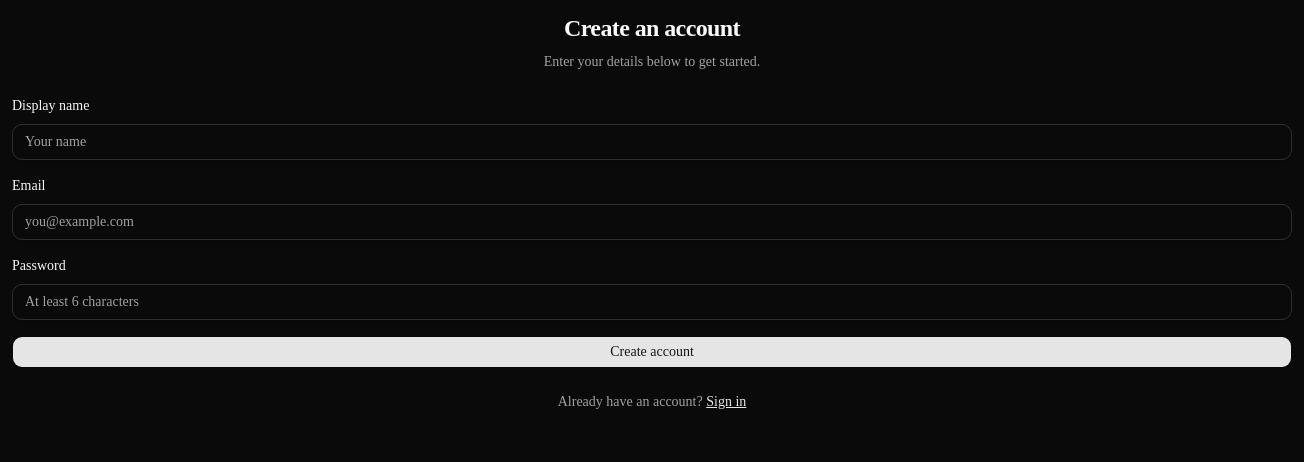
Authentication Flow › Signup Page › shows error message on signup failure
Type "Existing" into the field labelled "Display name".
click(652, 142); type("Existing")  # box left=12, top=124, right=1292, bottom=160
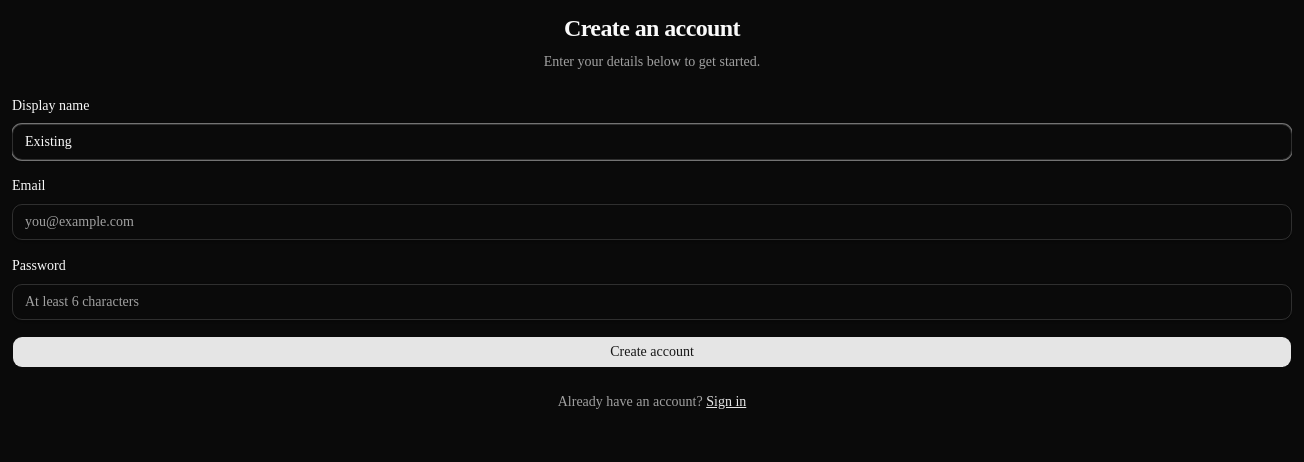
Type "existing@example.com" into the field labelled "Email".
click(652, 222); type("existing@example.com")  # box left=12, top=204, right=1292, bottom=240
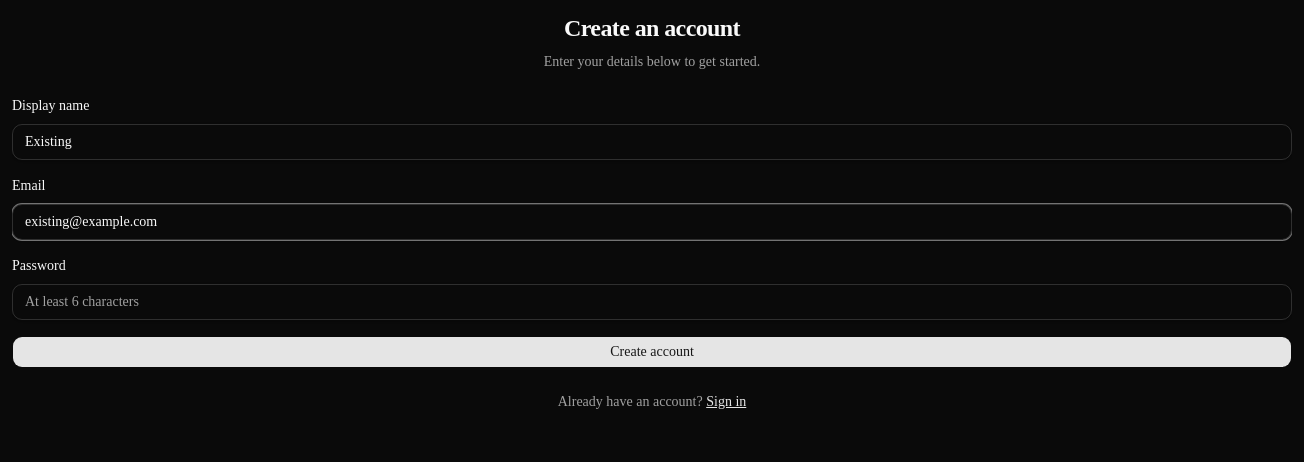
Type "pass123" into the password field labelled "Password".
click(652, 302); type("pass123")  # box left=12, top=284, right=1292, bottom=320
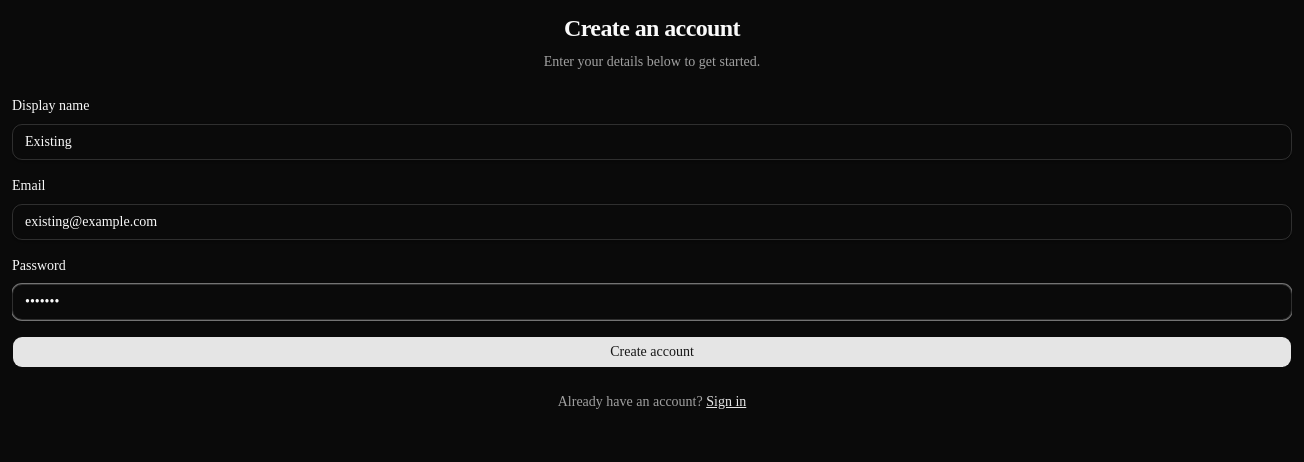
Click the button "Create account".
click(652, 352)  # box left=12, top=336, right=1292, bottom=368
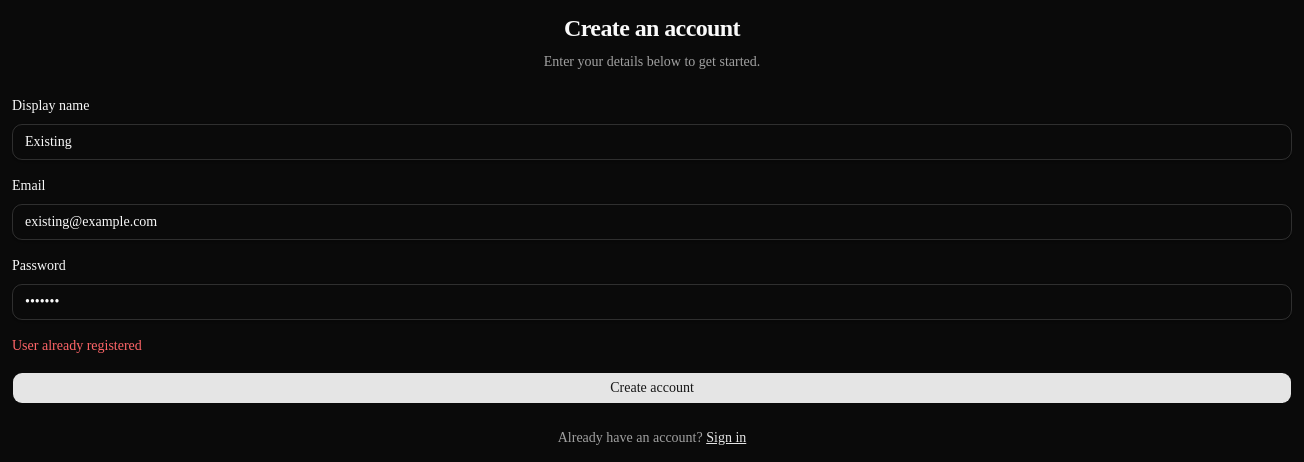
Result: the text "User already registered" is shown at left=12, top=338, right=142, bottom=353
